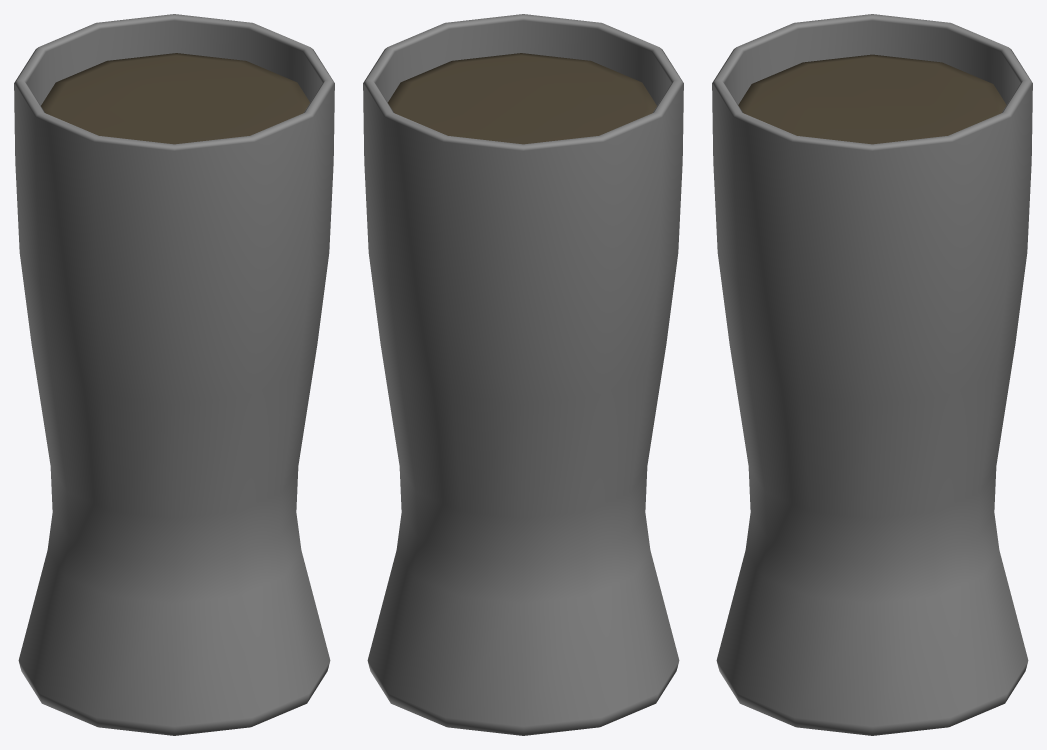
The model's file is BeerGlass.fbx.
The picture shows the model from 3 angles, left to right: view 1: azimuth 30°, elevation 25°; view 2: azimuth 150°, elevation 25°; view 3: azimuth 270°, elevation 25°; orthographic projection.
Visible parts, largest first — view 1: BeerGlass, Liquid; view 2: BeerGlass, Liquid; view 3: BeerGlass, Liquid.
Part boxes in pixels (x1,y1,x2,y2): BeerGlass: (14,14,334,735); Liquid: (41,53,309,144); BeerGlass: (363,14,683,735); Liquid: (388,53,656,144); BeerGlass: (712,14,1032,735); Liquid: (738,54,1006,144).
Size of the model in its own units: 0.00923 by 0.0189 by 0.00923.
